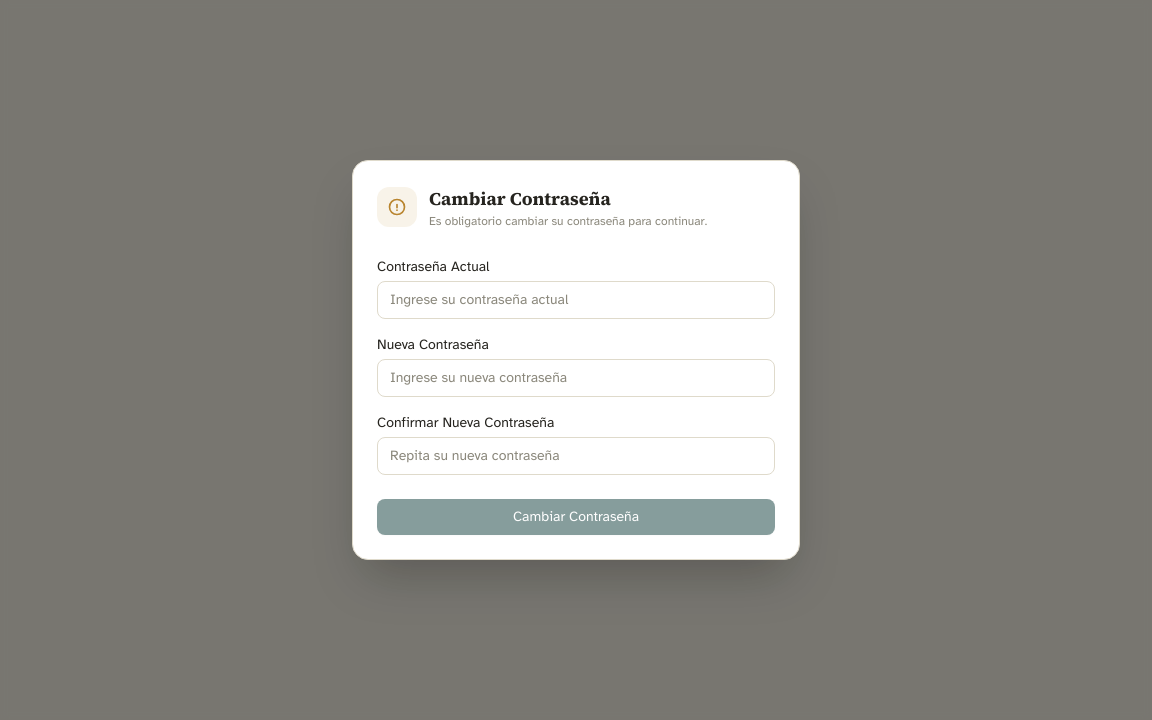
Test: formulario de cambio › muestra el error de contraseñas distintas al enviar el formulario
The image size is (1152, 720).
Type "anterior" into the password field labelled "Contraseña Actual".
click(576, 300); type("anterior")  # box [377,281,775,319]
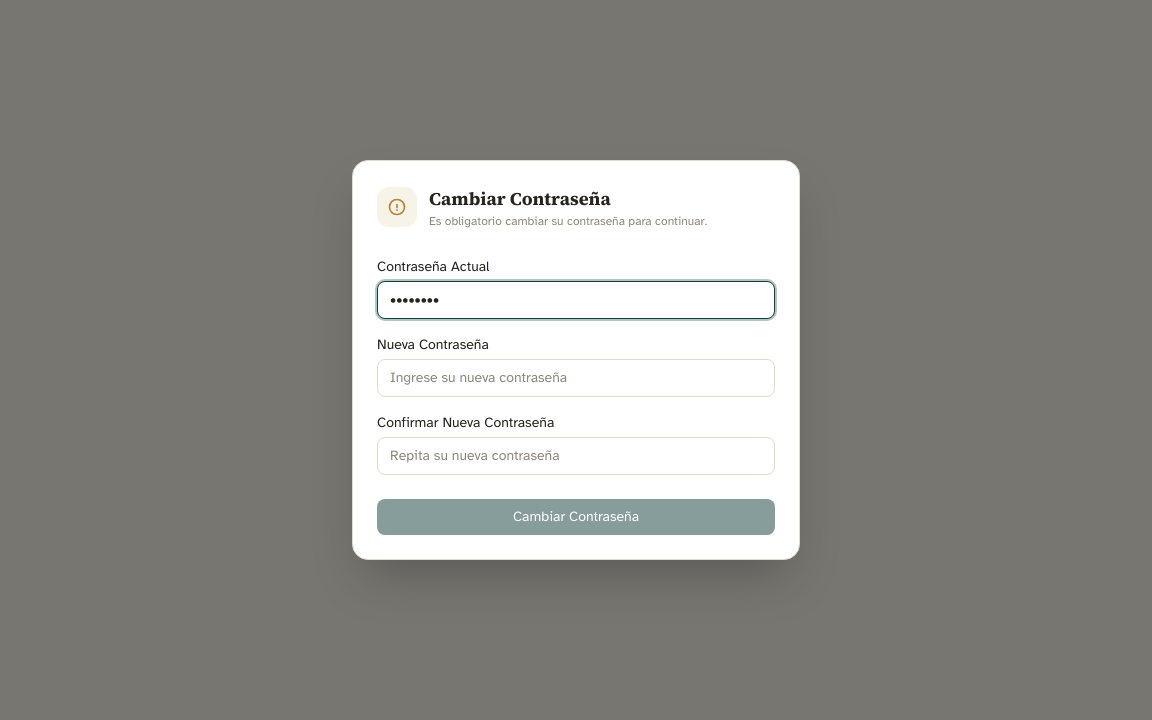
Type "NuevaClave123*" into the password field labelled "Nueva Contraseña".
click(576, 378); type("NuevaClave123*")  # box [377,359,775,397]
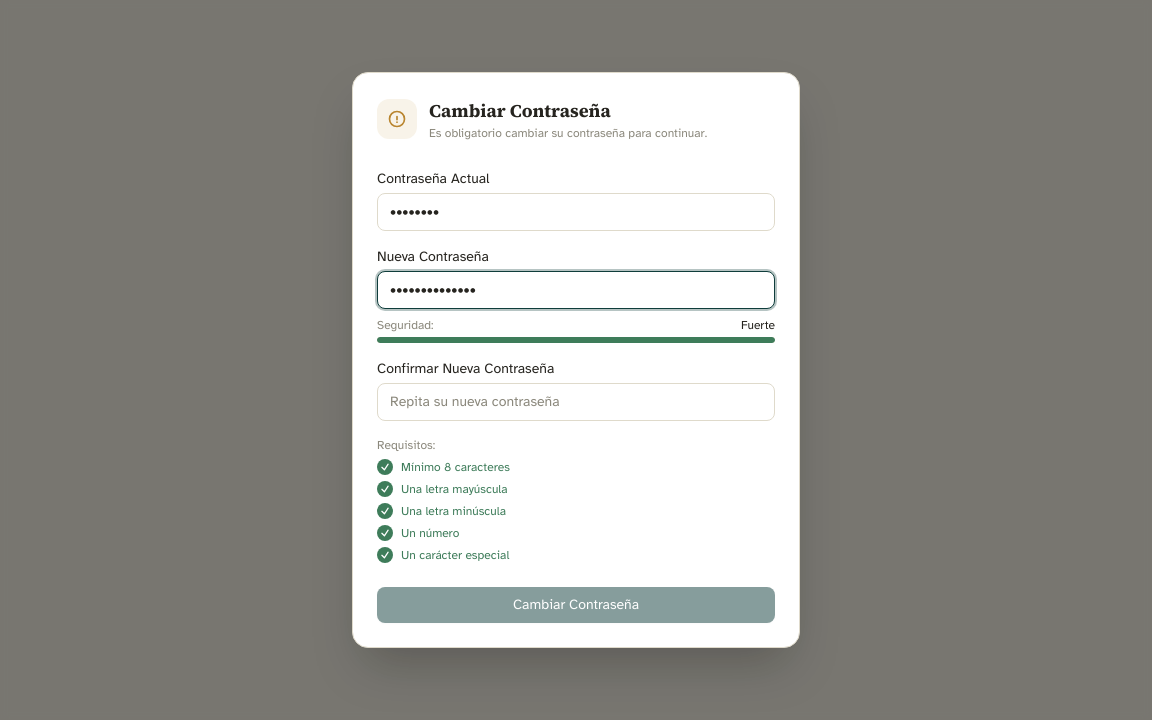
Type "OtraClave123*" into the password field labelled "Confirmar Nueva Contraseña".
click(576, 402); type("OtraClave123*")  # box [377,383,775,421]
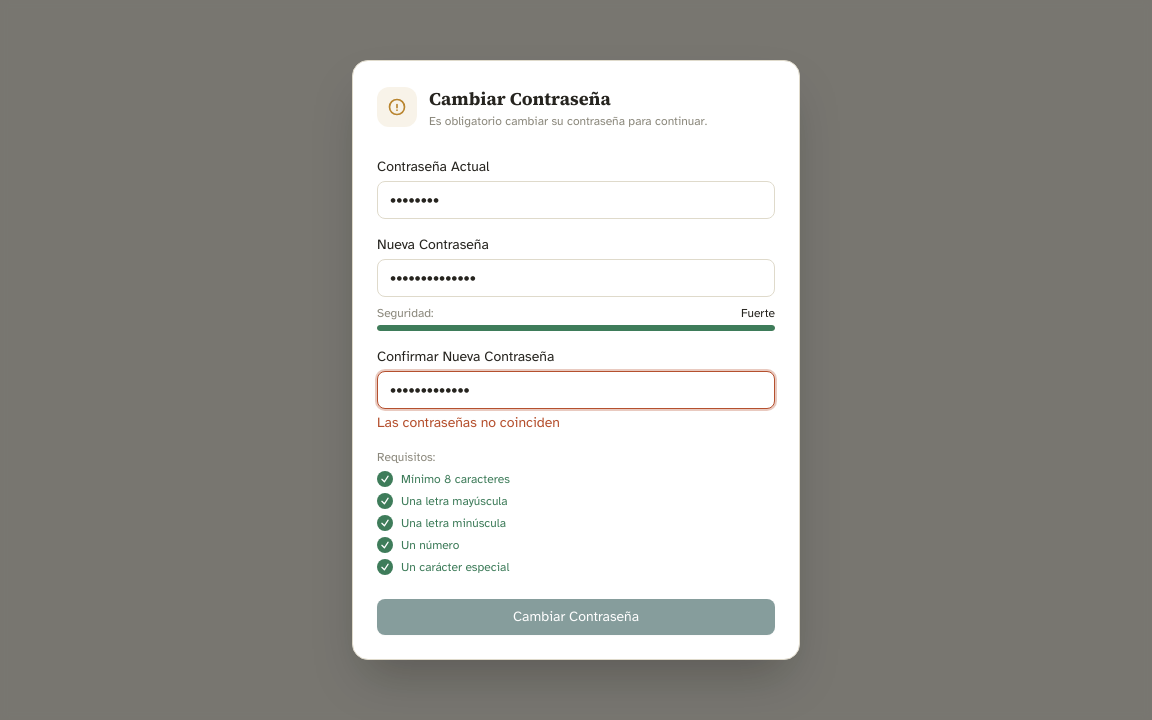
Submit the form named "Cambiar Contraseña", box [353,157,799,659]
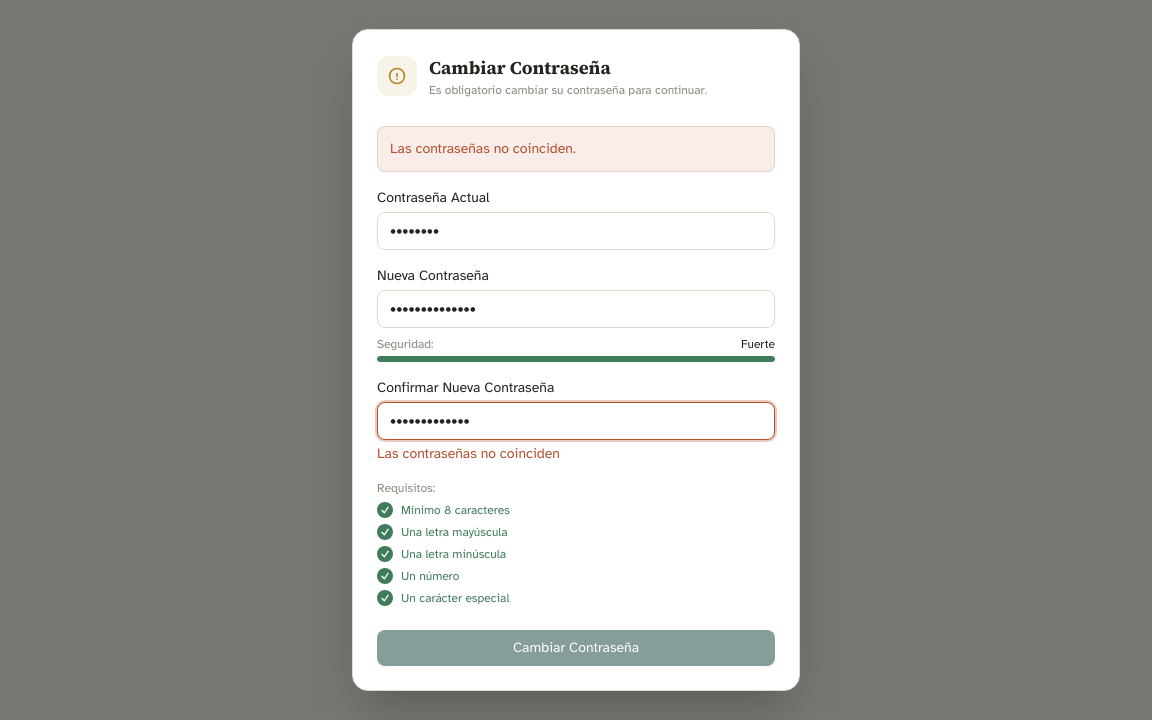
Expected: the text "Las contraseñas no coinciden." is shown, [377,126,775,172]
